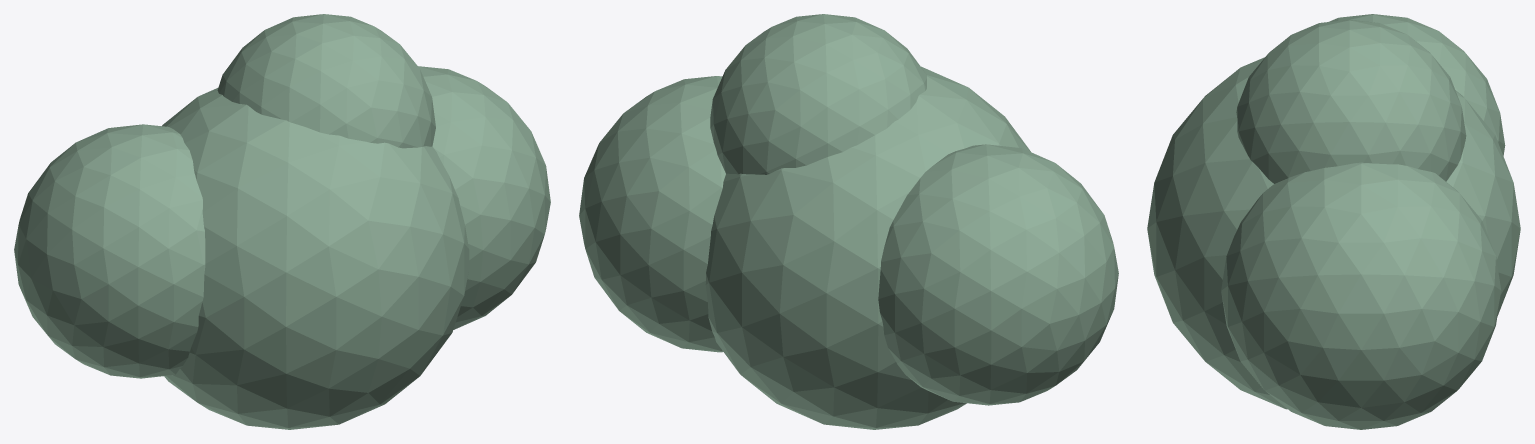
The model's file is roadside_shrub_cluster.glb.
3 views of the same model, side by side, from view 1: azimuth 30°, elevation 25°; view 2: azimuth 150°, elevation 25°; view 3: azimuth 270°, elevation 25° (orthographic). The views are drawn at different scales.
Parts seen in each view (by area): view 1: roadside_shrub_cluster_part_0, roadside_shrub_cluster_part_2, roadside_shrub_cluster_part_3, roadside_shrub_cluster_part_1; view 2: roadside_shrub_cluster_part_0, roadside_shrub_cluster_part_2, roadside_shrub_cluster_part_1, roadside_shrub_cluster_part_3; view 3: roadside_shrub_cluster_part_1, roadside_shrub_cluster_part_3, roadside_shrub_cluster_part_0, roadside_shrub_cluster_part_2.
Boxes of the visible parts, box(x1,y1,x2,y2) form: roadside_shrub_cluster_part_0: box(162, 88, 469, 429); roadside_shrub_cluster_part_2: box(14, 124, 205, 378); roadside_shrub_cluster_part_3: box(217, 14, 435, 148); roadside_shrub_cluster_part_1: box(418, 66, 550, 329); roadside_shrub_cluster_part_0: box(705, 66, 1030, 429); roadside_shrub_cluster_part_2: box(878, 144, 1118, 405); roadside_shrub_cluster_part_1: box(579, 76, 725, 352); roadside_shrub_cluster_part_3: box(710, 14, 926, 174); roadside_shrub_cluster_part_1: box(1221, 162, 1501, 429); roadside_shrub_cluster_part_3: box(1236, 19, 1466, 183); roadside_shrub_cluster_part_0: box(1147, 57, 1520, 409); roadside_shrub_cluster_part_2: box(1329, 14, 1505, 155).
Bounding box in the file's own units: 1.52 × 1.1 × 0.96.
